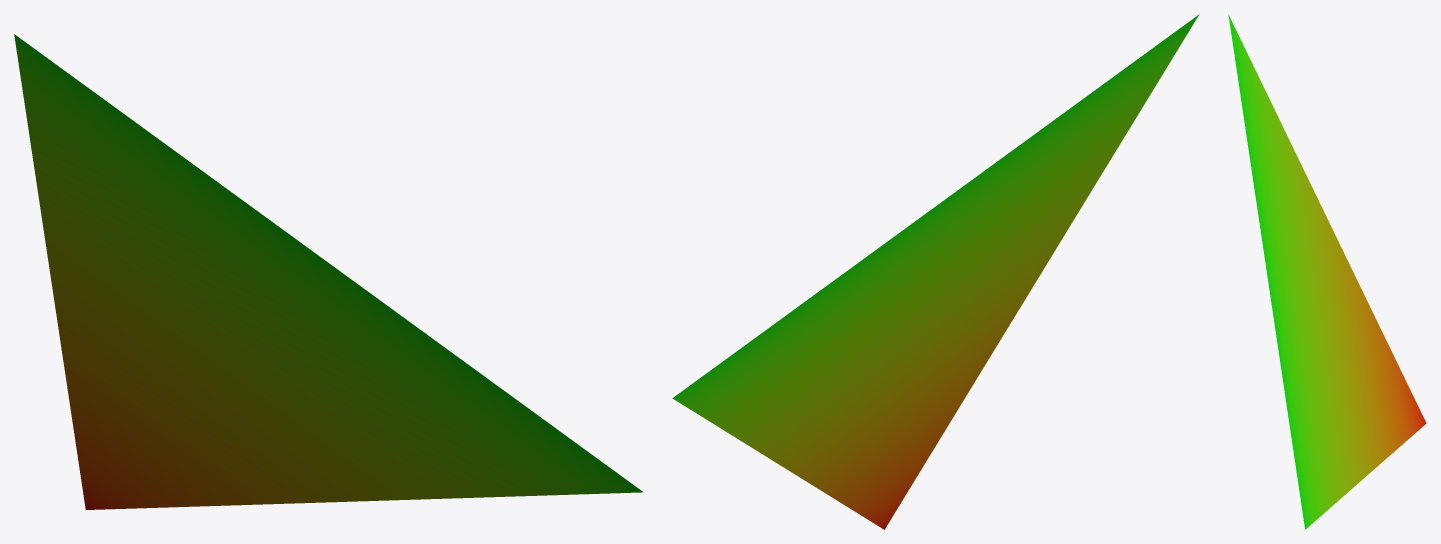
File: border_patch_2.obj
The picture shows the model from 3 angles, left to right: view 1: azimuth 30°, elevation 25°; view 2: azimuth 150°, elevation 25°; view 3: azimuth 270°, elevation 25°; orthographic projection. The views are drawn at different scales.
Bounding box in the file's own units: 1.2 × 1.12 × 0.5846.
